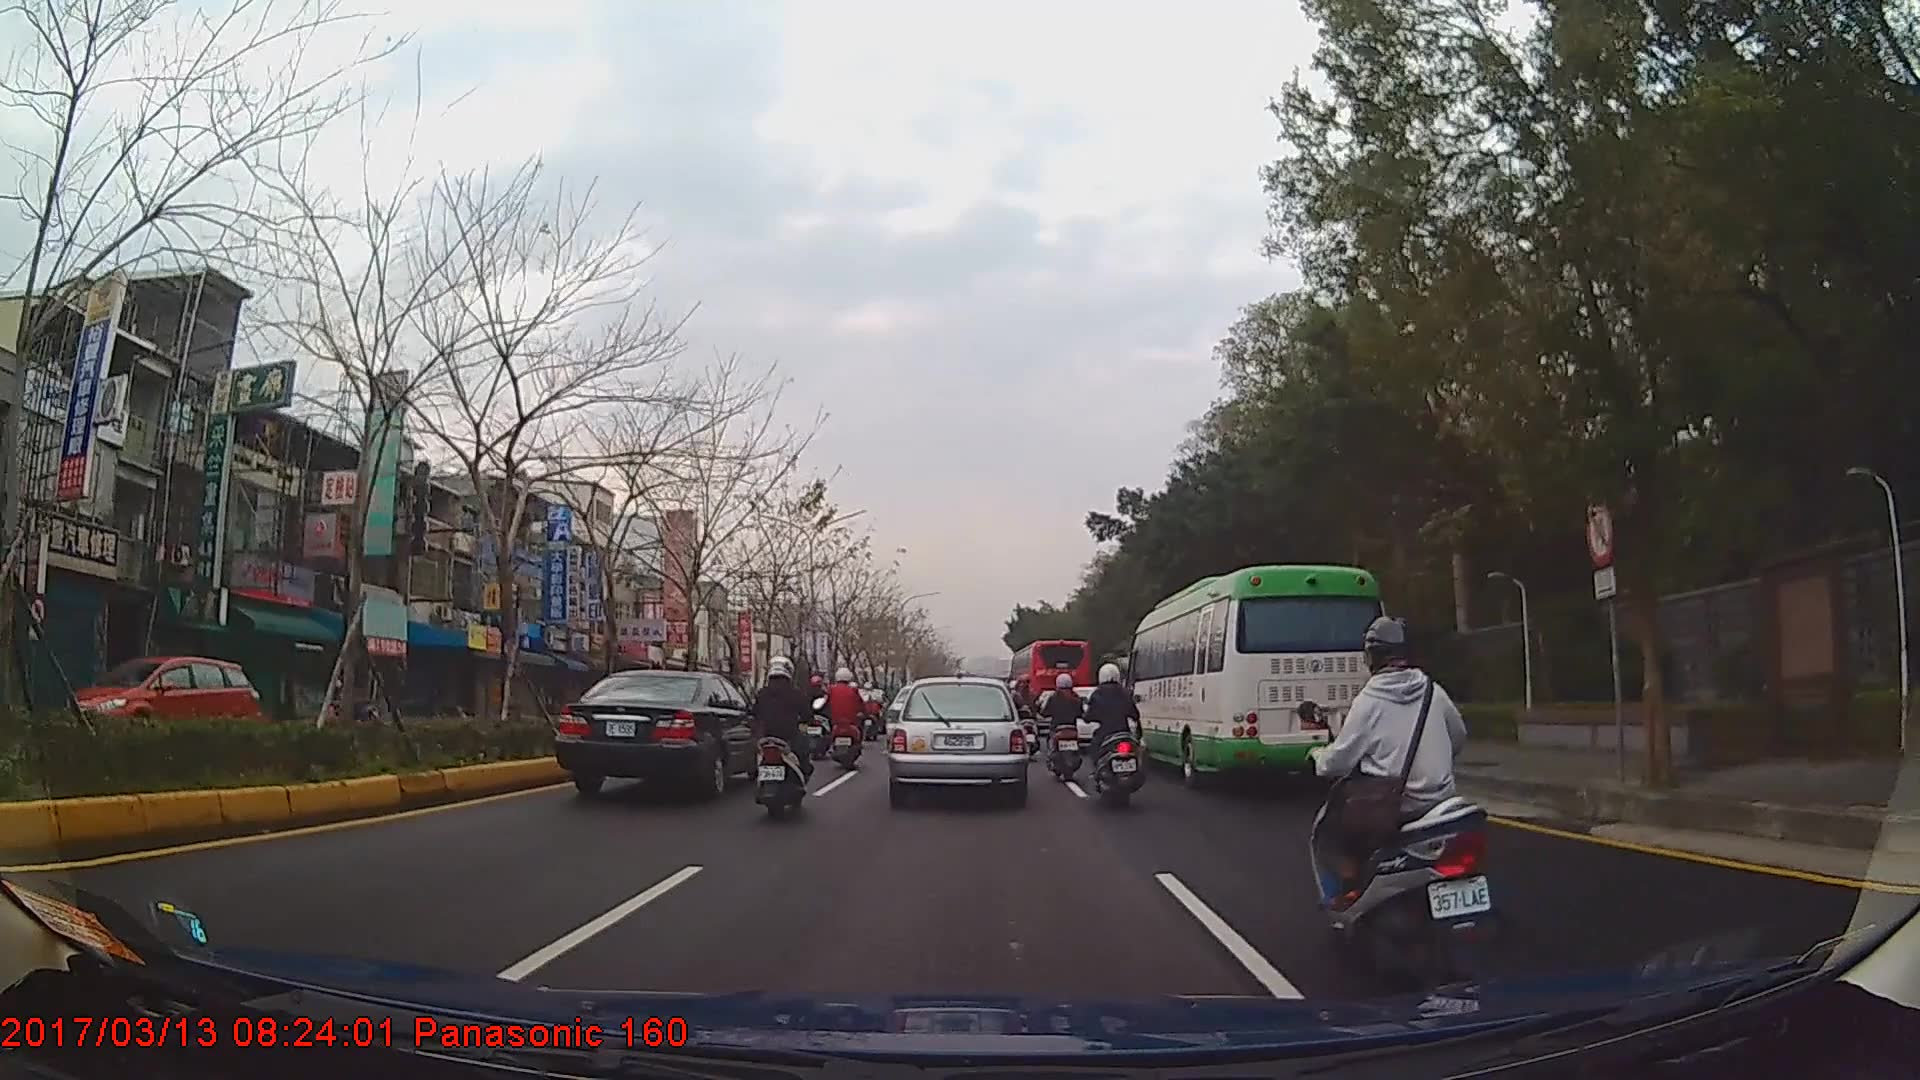rider: (1297, 616, 1490, 977), (748, 654, 823, 817), (1084, 670, 1151, 813), (1042, 672, 1088, 784), (824, 667, 868, 771), (801, 676, 836, 762), (1011, 672, 1041, 757), (861, 681, 884, 729)
vehicle: (1124, 562, 1397, 796), (553, 669, 770, 797), (66, 655, 259, 749), (888, 676, 1026, 804), (1007, 635, 1092, 731)
